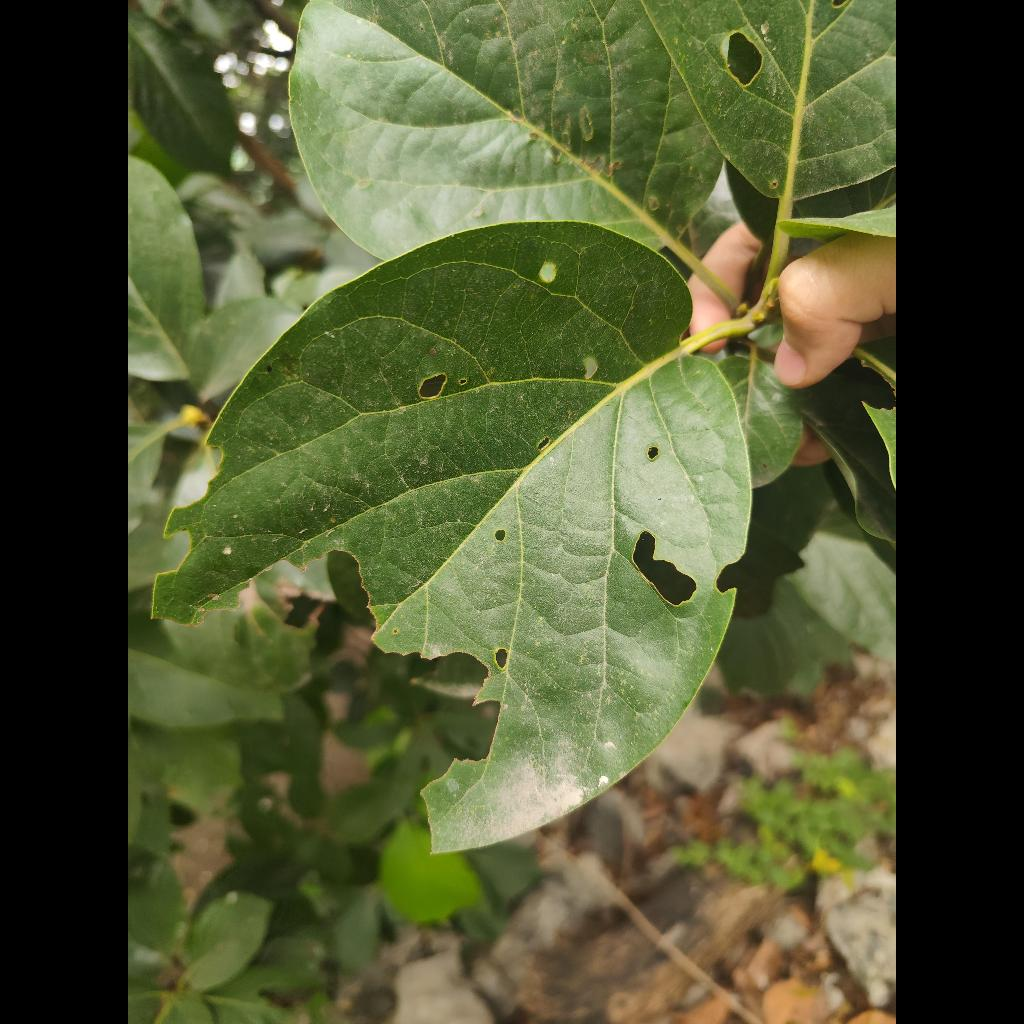Pest Infested: (156, 223, 751, 851)
